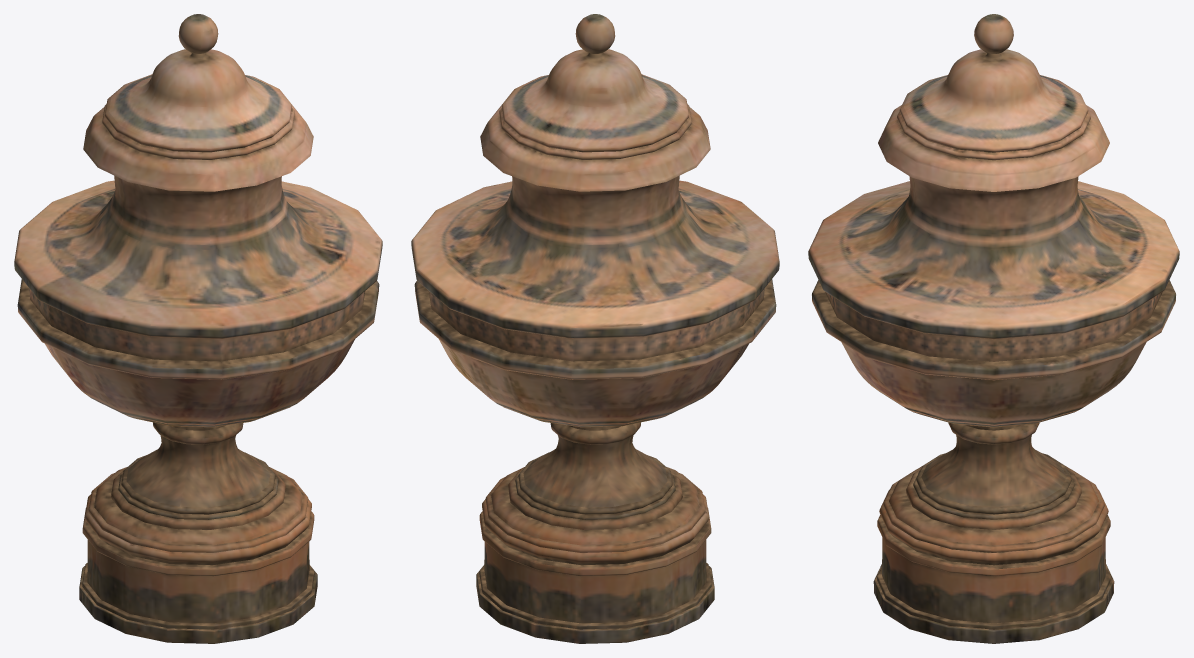
The picture shows the model from 3 angles, left to right: view 1: azimuth 30°, elevation 25°; view 2: azimuth 150°, elevation 25°; view 3: azimuth 270°, elevation 25°; orthographic projection.
Visible parts, largest first — view 1: Line015_2; view 2: Line015_2; view 3: Line015_2.
Boxes of the visible parts, x1,y1,x2,y2 form: Line015_2: [14, 14, 382, 643]; Line015_2: [411, 14, 779, 643]; Line015_2: [808, 14, 1179, 643].
Bounding box in the file's own units: 13.96 × 23.9 × 13.96.
Materials: 1 (1 with a texture image).
